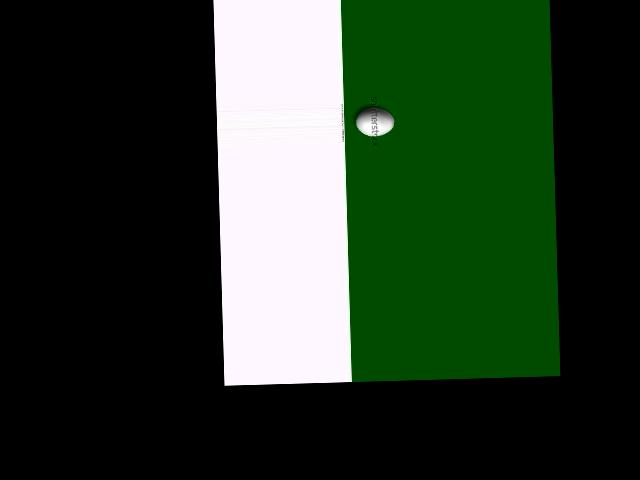egg: (355, 107, 394, 137)
